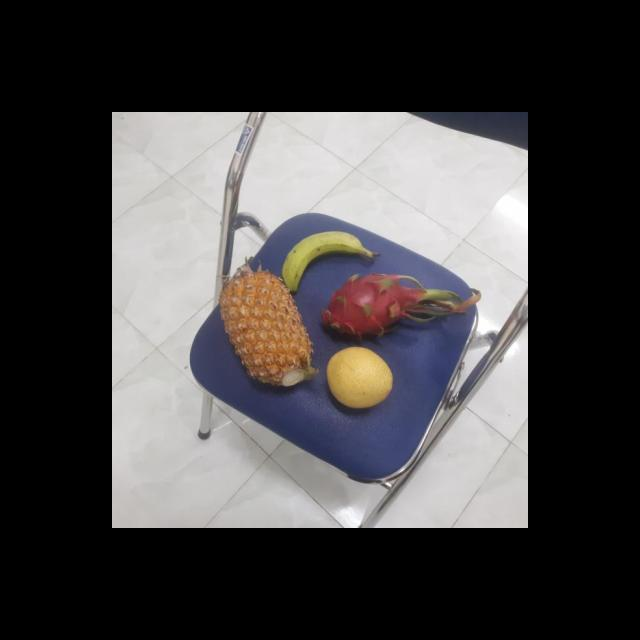banana: (276, 230, 370, 288)
pear: (323, 348, 395, 410)
pineapple: (216, 271, 316, 387)
pitaya: (318, 273, 428, 342)
